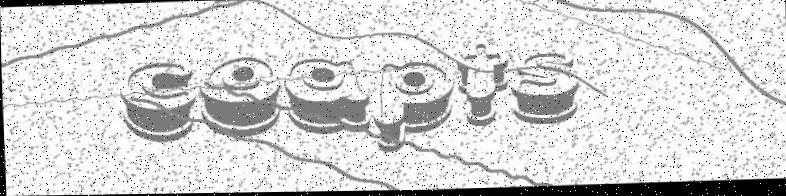a: (282, 55, 371, 137)
c: (118, 61, 197, 144)
o: (197, 54, 281, 139)
p: (370, 59, 457, 154)
s: (510, 52, 581, 127)
t: (455, 43, 511, 129)
